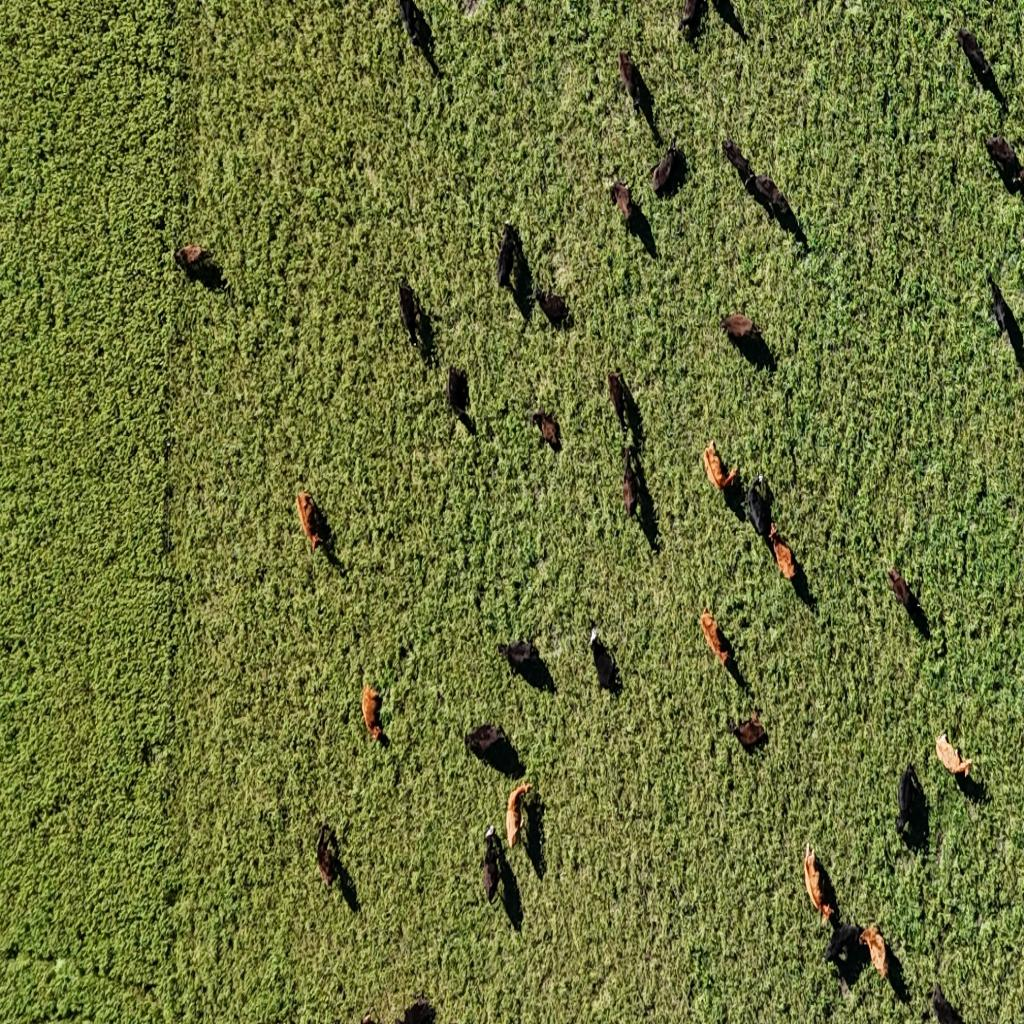cow: (935, 731, 977, 800), (719, 312, 767, 364), (895, 764, 926, 843), (804, 842, 833, 924), (751, 173, 793, 229), (986, 134, 1023, 197), (957, 26, 995, 87), (295, 489, 327, 555), (588, 626, 619, 694), (824, 920, 862, 972), (744, 476, 774, 541), (700, 608, 731, 668), (506, 780, 533, 848), (703, 441, 738, 493), (396, 0, 430, 52), (496, 638, 540, 678), (986, 272, 1012, 337), (728, 711, 768, 752), (617, 50, 643, 113), (464, 723, 506, 762), (651, 143, 680, 199), (768, 524, 796, 581), (526, 409, 562, 453), (608, 368, 632, 434), (532, 285, 568, 329), (496, 222, 518, 292), (858, 926, 886, 980), (930, 980, 964, 1024), (398, 282, 421, 347), (360, 679, 384, 741), (446, 364, 470, 424), (622, 447, 641, 520), (717, 0, 748, 44), (887, 566, 913, 614), (174, 244, 210, 277), (722, 138, 750, 178), (400, 995, 436, 1023), (611, 179, 633, 223), (317, 843, 337, 889), (679, 0, 703, 37), (482, 853, 499, 903)
